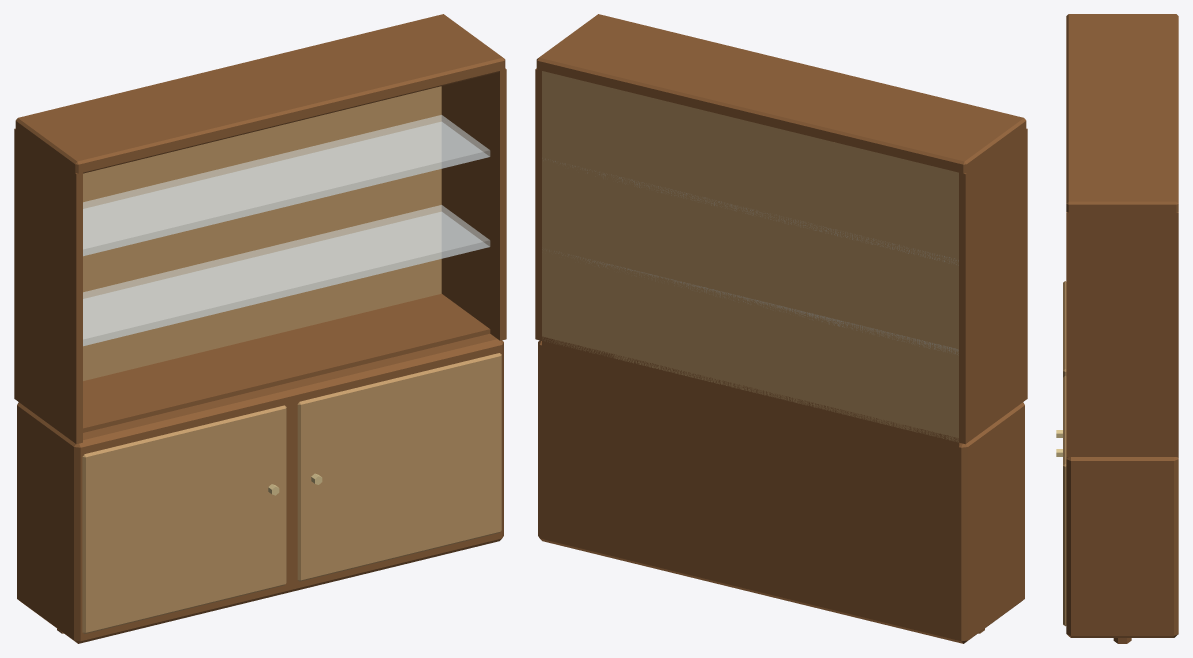
File: sideboard.glb
The picture shows the model from 3 angles, left to right: view 1: azimuth 30°, elevation 25°; view 2: azimuth 150°, elevation 25°; view 3: azimuth 270°, elevation 25°; orthographic projection. The views are drawn at different scales.
Visible parts, largest first — view 1: sideboard; view 2: sideboard; view 3: sideboard.
Part boxes in pixels (<box>): sideboard: <box>14,14,506,643</box>; sideboard: <box>535,14,1027,643</box>; sideboard: <box>1056,14,1178,643</box>.
Bounding box in the file's own units: 2 × 2.2 × 0.545.
